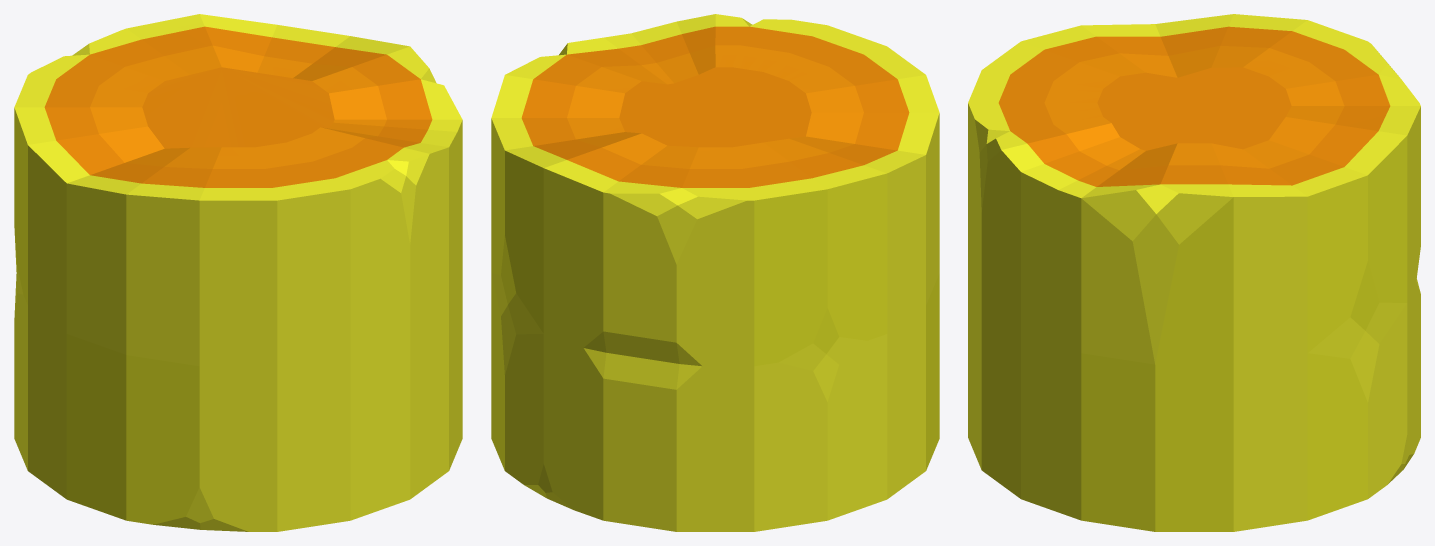
File: Tree log_22.fbx
The picture shows the model from 3 angles, left to right: view 1: azimuth 30°, elevation 25°; view 2: azimuth 150°, elevation 25°; view 3: azimuth 270°, elevation 25°; orthographic projection.
Parts seen in each view (by area): view 1: Circle.299; view 2: Circle.299; view 3: Circle.299.
Part boxes in pixels (bbox=[...]): Circle.299: bbox=[14, 14, 462, 531]; Circle.299: bbox=[491, 14, 939, 531]; Circle.299: bbox=[968, 14, 1420, 531].
Size of the model in its own units: 23.2 by 19.22 by 23.56.
